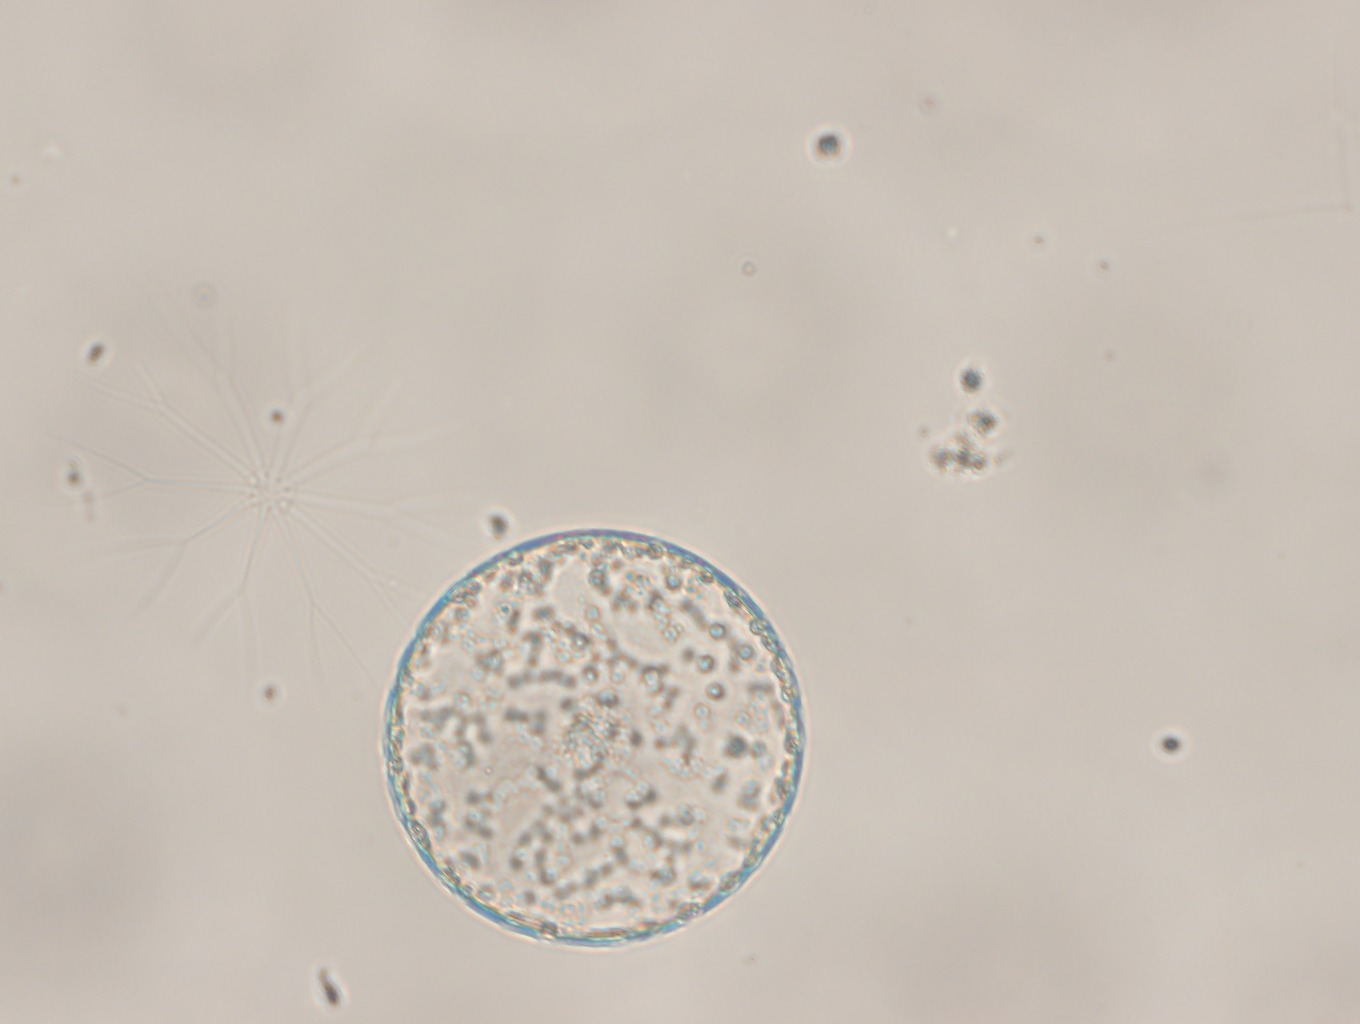bacteriastrum: (44, 276, 457, 716)
coscinodiscus: (376, 525, 812, 955)
